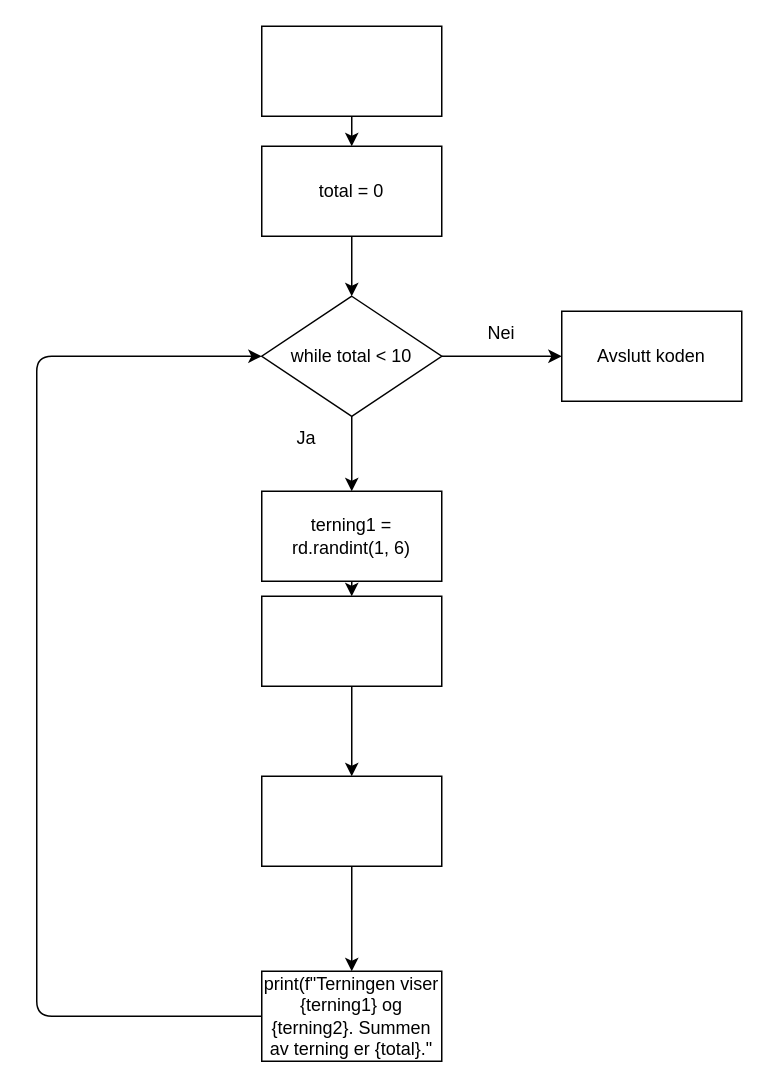
Image size: 768x1088. Some labels were removed from this diagram. Here are the shapes that lost their labels. From the top down, the centre of each, then its label:
the point at 351,70: Import random as rd
the point at 351,640: terning2 = rd.randint(1, 6)
the point at 351,820: total = terning1 + terning2
